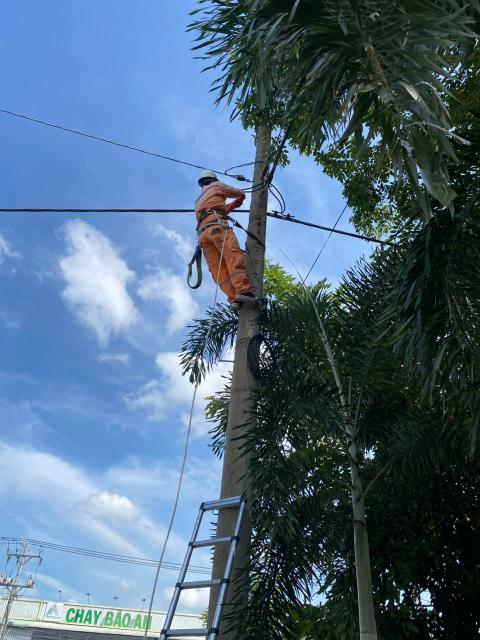harness: (181, 207, 239, 233)
helmet: (189, 166, 224, 184)
shoes: (236, 290, 267, 307), (229, 300, 245, 317)
